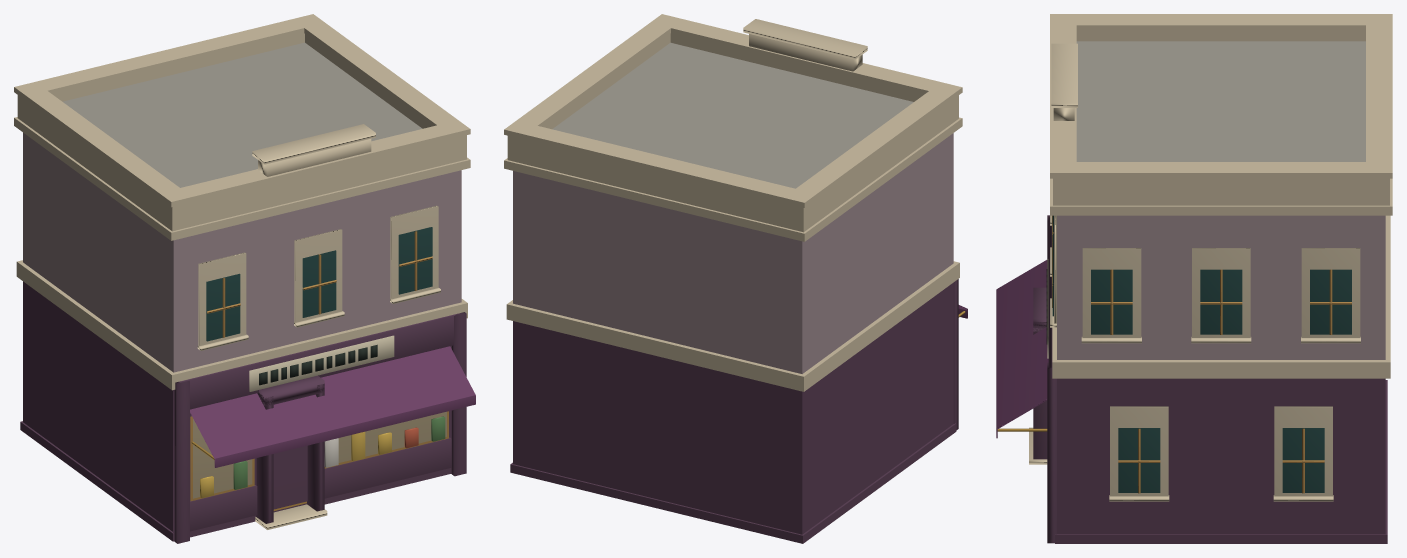
The model's file is city_mauve_2.glb.
The picture shows the model from 3 angles, left to right: view 1: azimuth 30°, elevation 25°; view 2: azimuth 150°, elevation 25°; view 3: azimuth 270°, elevation 25°; orthographic projection. The views are drawn at different scales.
Visible parts, largest first — view 1: city_mauve_2; view 2: city_mauve_2; view 3: city_mauve_2.
Boxes of the visible parts, <box> form: city_mauve_2: <box>14,14,475,543</box>; city_mauve_2: <box>504,14,967,543</box>; city_mauve_2: <box>996,14,1392,543</box>.
Bounding box in the file's own units: 5.39 × 6.21 × 5.67.
